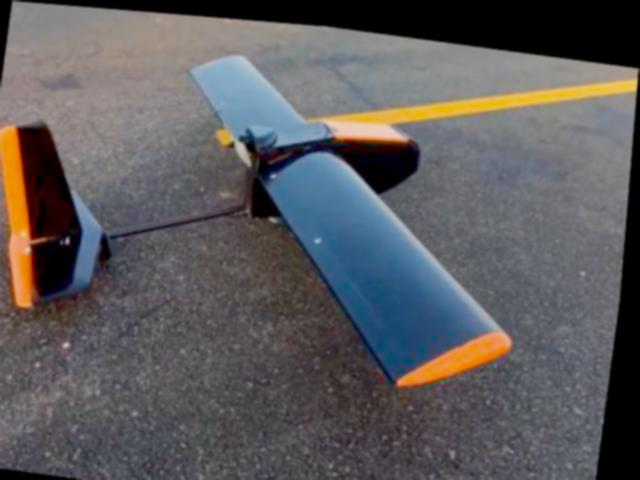uav: (0, 9, 563, 439)
